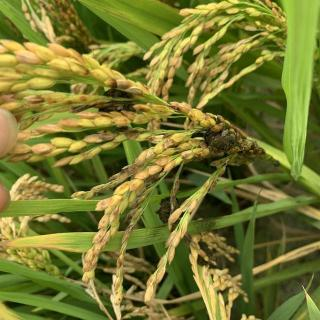Gosong-Palsu: (202, 120, 250, 156), (98, 86, 139, 114), (156, 196, 182, 224)
